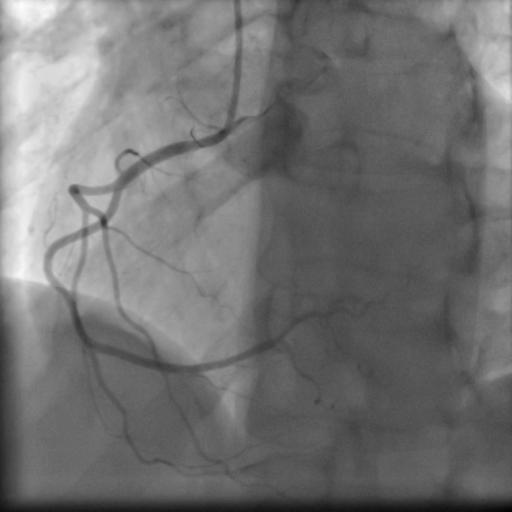Stenosis: (59, 276, 81, 329)
